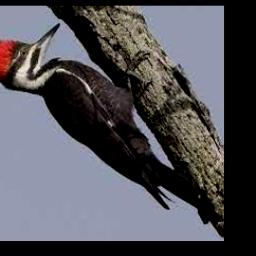Woodpecker: (0, 23, 222, 224)
